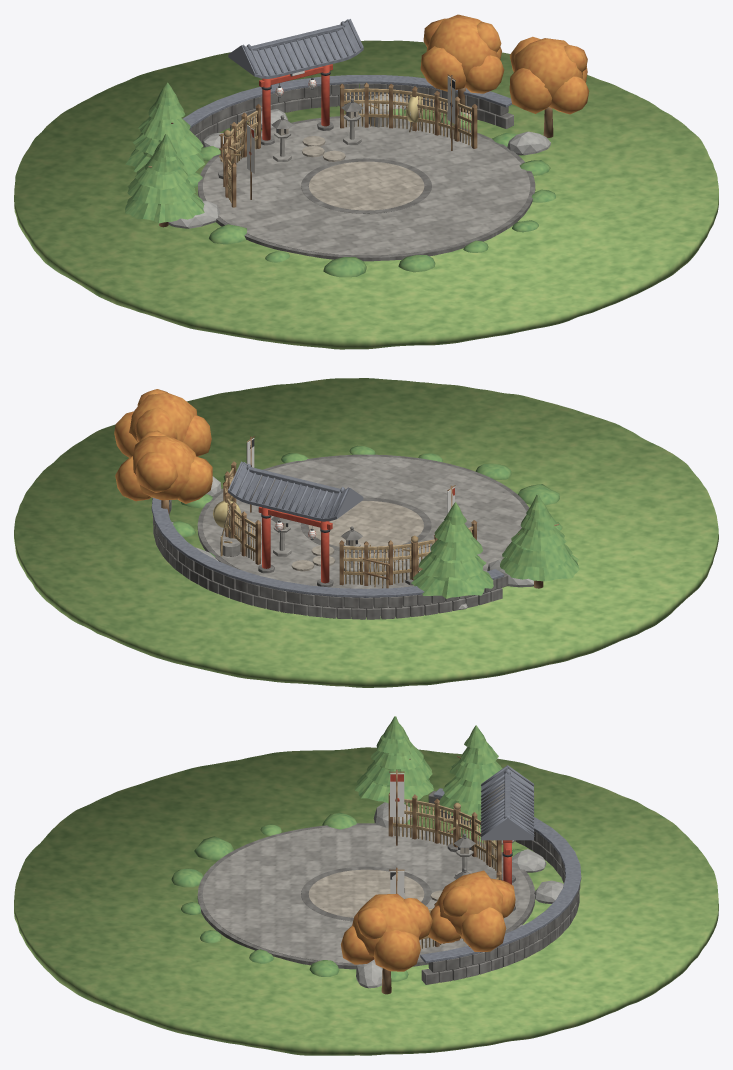
The model's file is stage_preview.fbx.
3 renders of one model, top to bottom at view 1: azimuth 30°, elevation 25°; view 2: azimuth 150°, elevation 25°; view 3: azimuth 270°, elevation 25°, orthographic.
Visible parts, largest first — view 1: PreviewStage; view 2: PreviewStage; view 3: PreviewStage.
Part boxes in pixels (x1,y1,x2,y2): PreviewStage: (14, 14, 718, 349); PreviewStage: (14, 378, 718, 687); PreviewStage: (14, 716, 718, 1055).
Size of the model in its own units: 2803 by 526 by 2797.
Materials: 1 (1 with a texture image).
